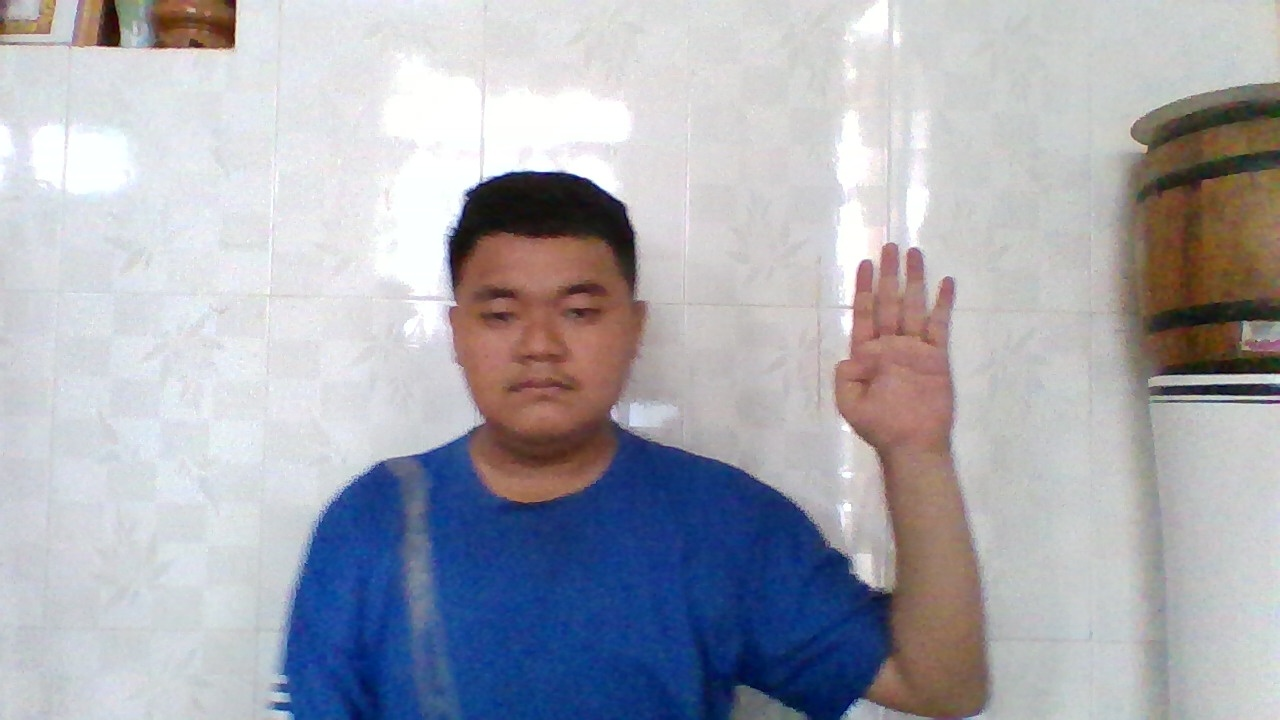B: (827, 232, 965, 464)
